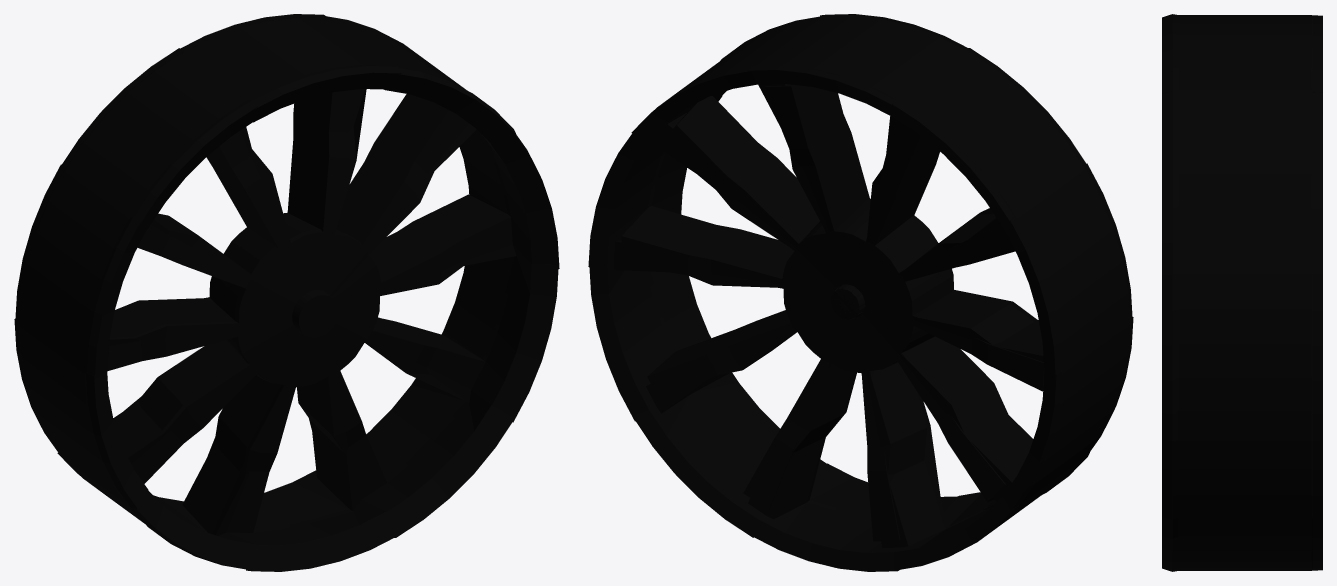
File: rodaComTexturaCorreto8.fbx
3 views of the same model, side by side, from view 1: azimuth 30°, elevation 25°; view 2: azimuth 150°, elevation 25°; view 3: azimuth 270°, elevation 25° (orthographic). The views are drawn at different scales.
Parts seen in each view (by area): view 1: Plane; view 2: Plane; view 3: Plane.
Boxes of the visible parts, x1=… form: Plane: x1=14, y1=14, x2=559, y2=571; Plane: x1=588, y1=14, x2=1133, y2=571; Plane: x1=1162, y1=14, x2=1322, y2=571.
Size of the model in its own units: 1233 by 1239 by 357.
